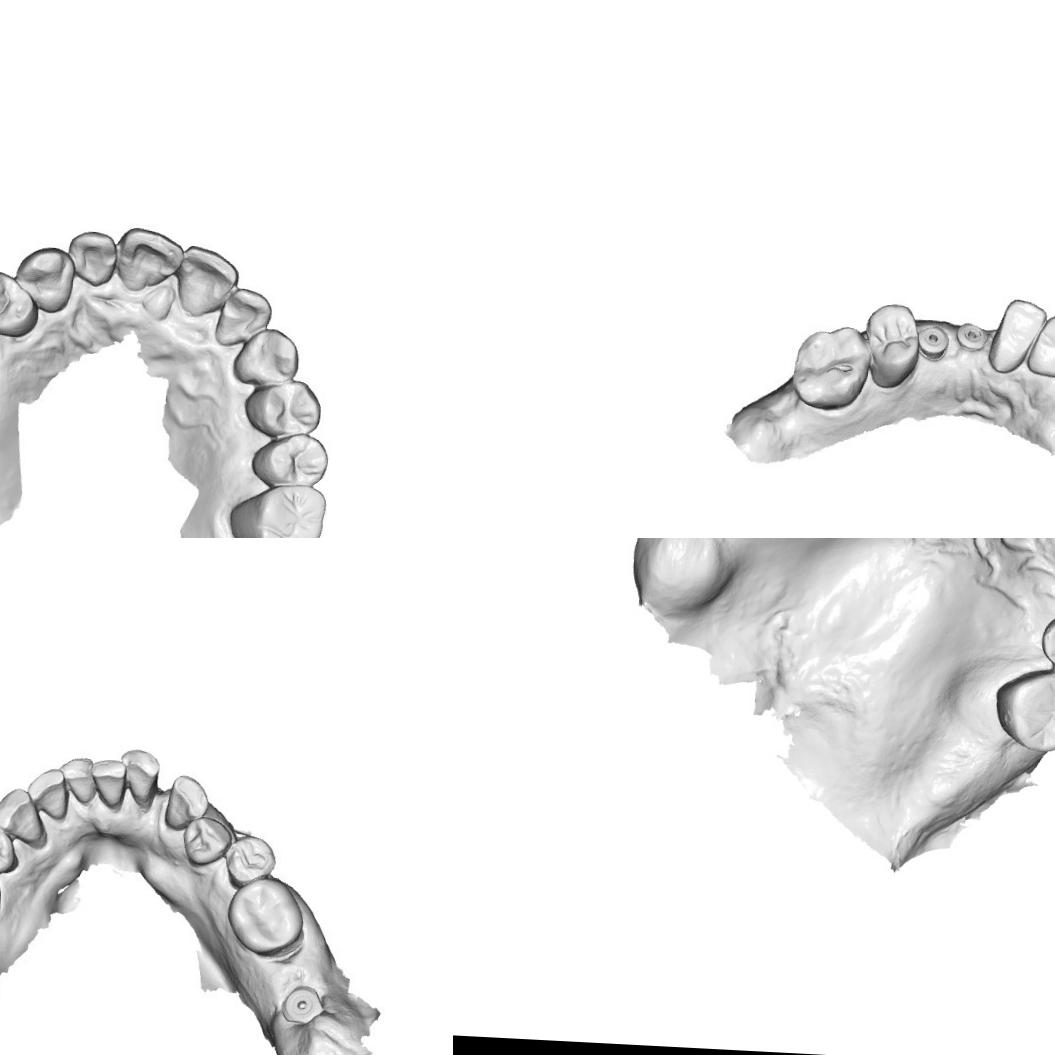canine: (233, 324, 302, 386), (17, 246, 78, 312), (159, 769, 213, 832), (0, 783, 48, 846)
implant: (280, 978, 324, 1026), (914, 322, 948, 361)
implant_minus: (953, 319, 992, 356)
incisor: (983, 292, 1048, 375), (116, 226, 181, 292), (210, 286, 277, 350), (175, 246, 234, 318), (68, 228, 120, 290), (120, 750, 161, 806), (29, 765, 68, 820), (90, 760, 130, 808), (62, 756, 96, 804), (1031, 314, 1055, 377)
molar: (790, 323, 872, 409), (225, 872, 307, 958), (226, 479, 327, 538), (992, 664, 1055, 754)
premolar: (866, 299, 920, 386), (242, 380, 315, 437), (249, 434, 325, 486), (221, 830, 280, 885), (178, 814, 230, 871), (0, 270, 41, 340), (1039, 612, 1055, 671), (0, 825, 16, 881)
